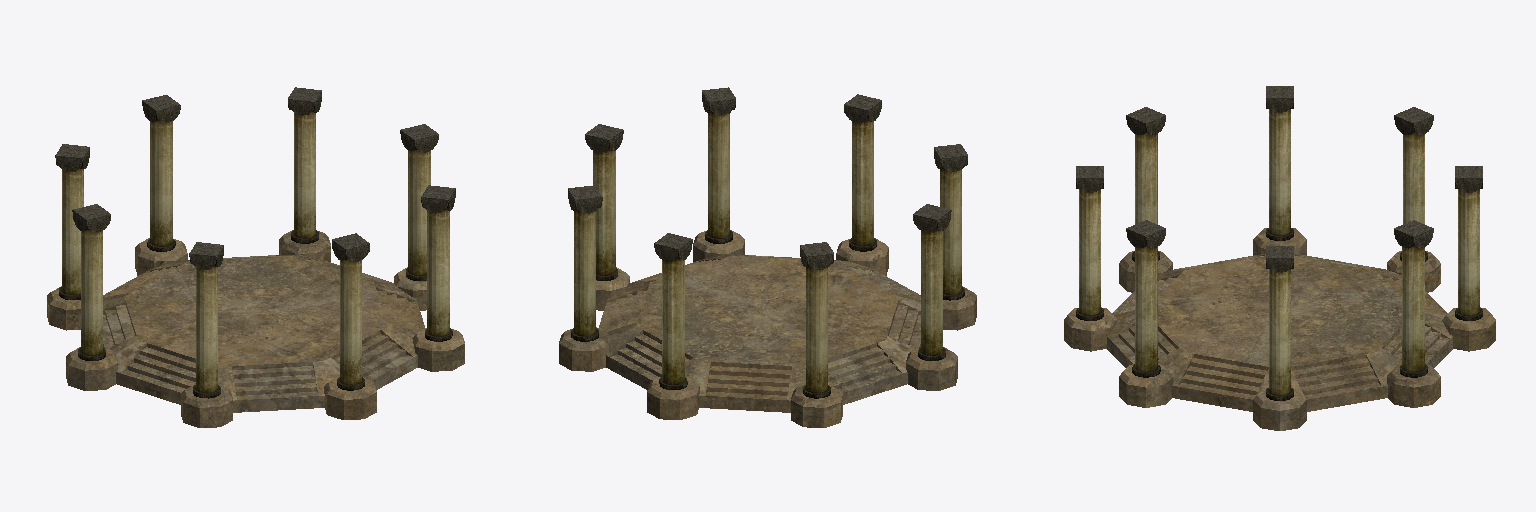
The picture shows the model from 3 angles: view 1: azimuth 30°, elevation 25°; view 2: azimuth 150°, elevation 25°; view 3: azimuth 270°, elevation 25°; orthographic projection.
Parts seen in each view (by area): view 1: Default; view 2: Default; view 3: Default.
Boxes of the visible parts, box(x1,y1,x2,y2) form: Default: box(47, 87, 464, 427); Default: box(559, 87, 976, 427); Default: box(1064, 86, 1495, 430).
Size of the model in its own units: 15.24 by 6.53 by 15.24.
Materials: 2 (2 with a texture image).